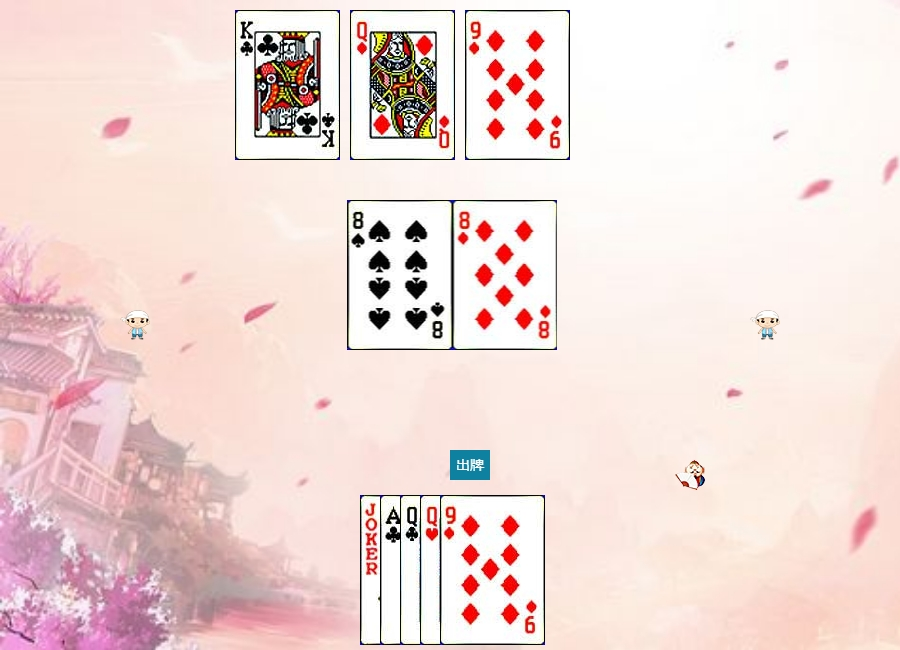12~1: (350, 10, 455, 160)
12~2: (400, 495, 505, 645)
12~3: (420, 495, 525, 645)
13~2: (235, 10, 340, 160)
14~2: (380, 495, 485, 645)
18~4: (360, 495, 465, 645)
8~1: (453, 200, 558, 350)
8~4: (348, 200, 453, 350)
9~1: (465, 10, 570, 160), (440, 495, 545, 645)
